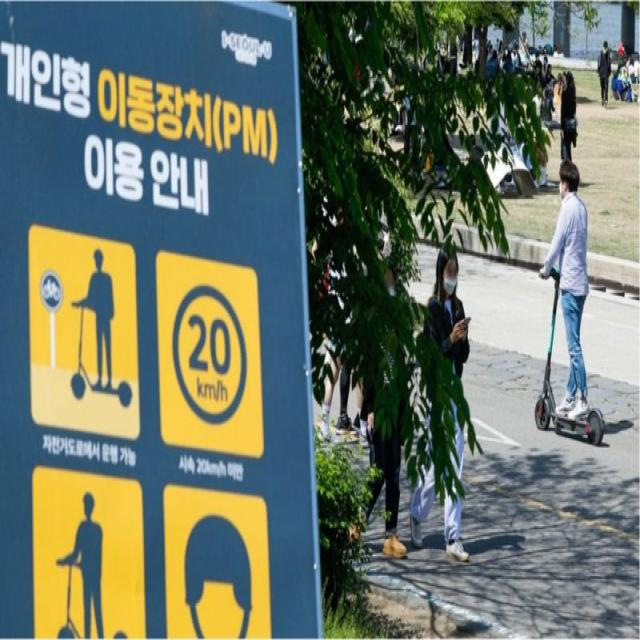non-helmet: (528, 153, 608, 453)
